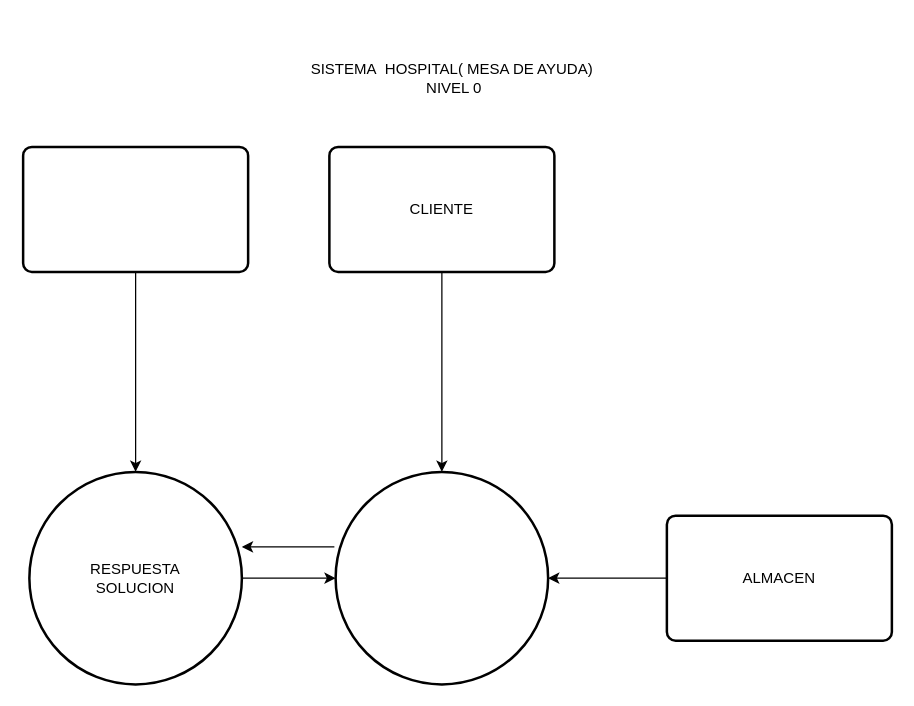
This 914x706 diagram has some shape labels left out. Each missing label, with the centre of its shape:
"DOCTOR" goes at pixel 135 208.
"REPORTA INCIDENCIAS" goes at pixel 441 577.
